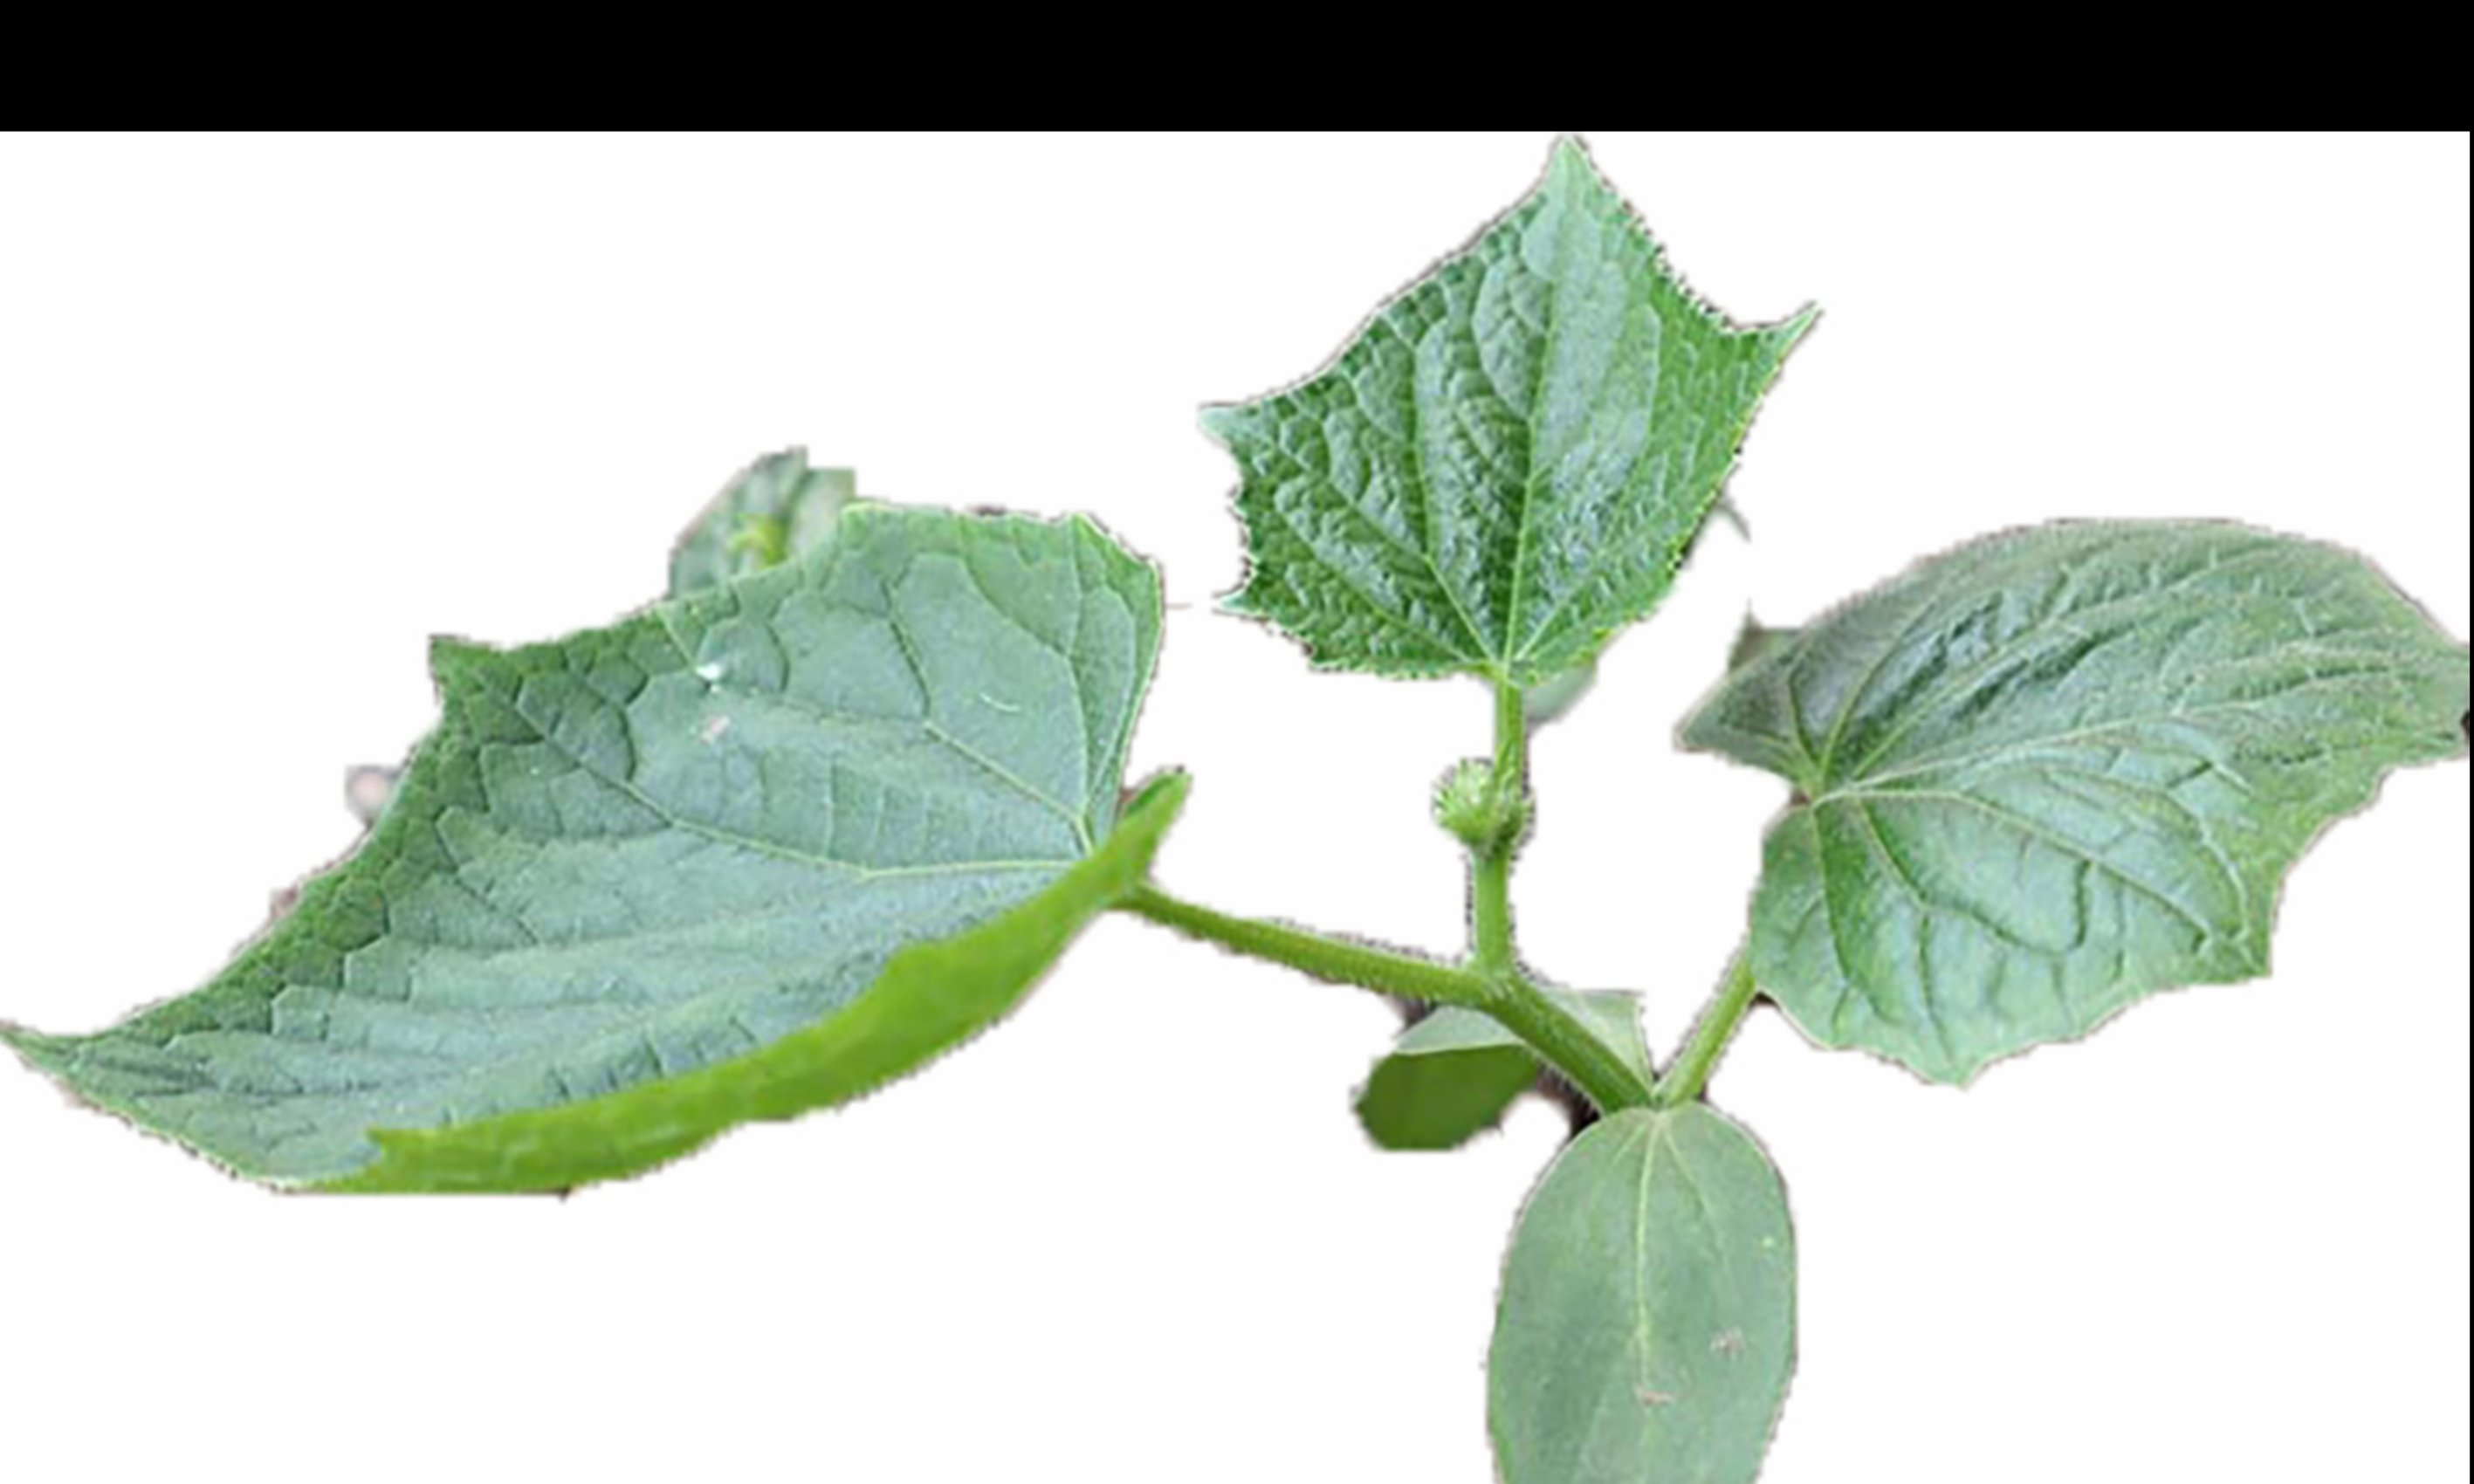cucumber_plant: (34, 198, 2465, 1185)
